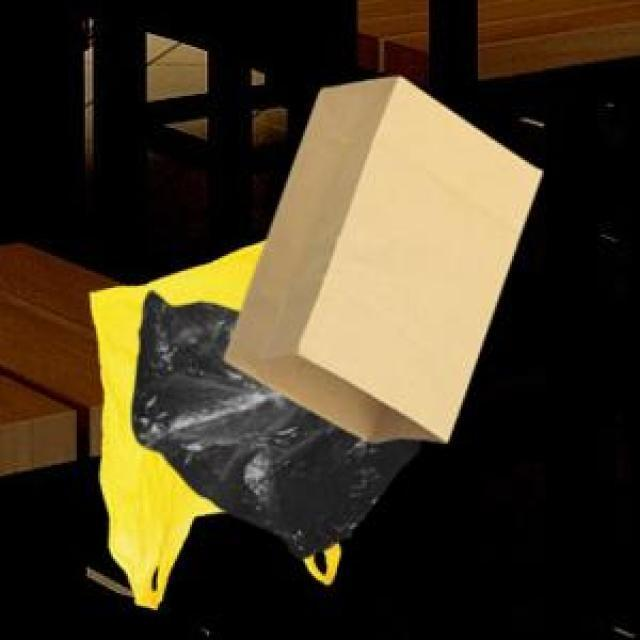paper: (220, 73, 538, 437)
